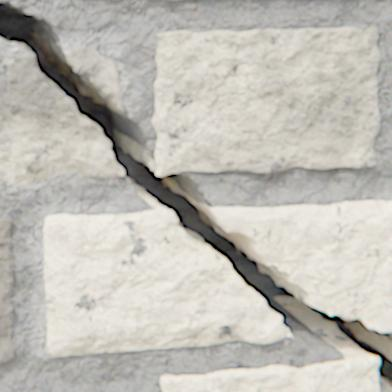brick: (151, 27, 379, 174), (160, 355, 378, 391), (0, 217, 14, 361)
broken_brick: (44, 210, 289, 356), (210, 200, 391, 330), (0, 55, 123, 184), (66, 47, 123, 110), (0, 55, 5, 63)
crack: (0, 0, 391, 391)
